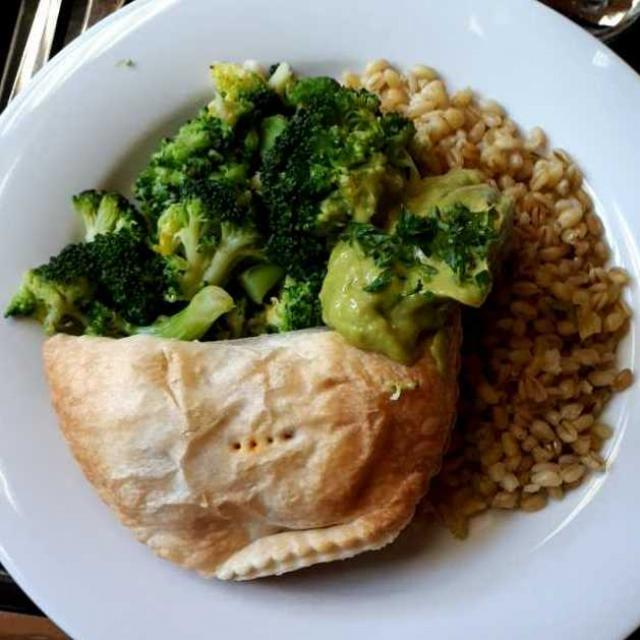broccoli: (9, 51, 433, 336)
ebly: (370, 67, 622, 533)
meat-pie-empanadas: (34, 320, 462, 574)
